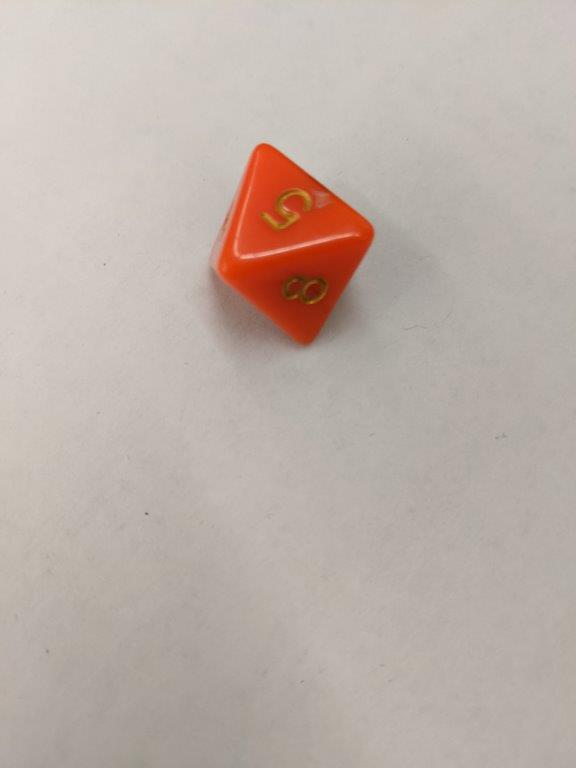d8-5: (206, 143, 374, 353)
